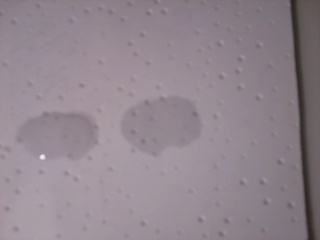Water_detected: (125, 98, 192, 152), (24, 110, 84, 162)
